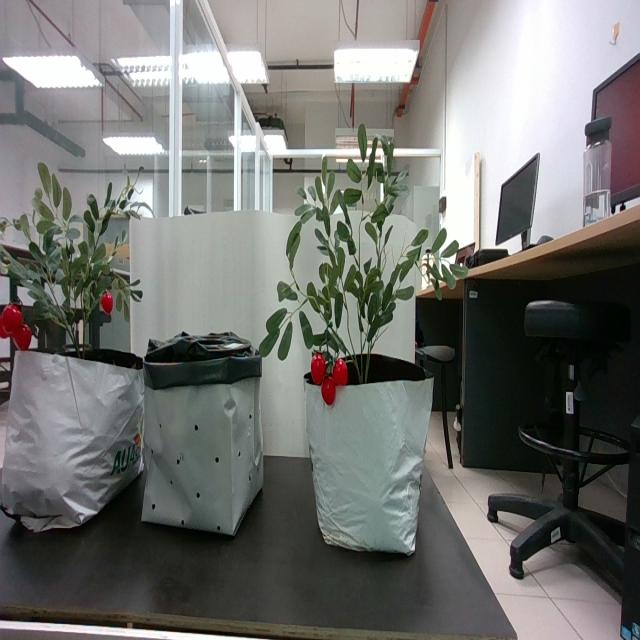Soilbag: (0, 351, 144, 536), (305, 355, 434, 560), (140, 339, 264, 540)
Tomato: (308, 353, 348, 408), (0, 305, 34, 351)
plant: (258, 139, 470, 406), (0, 163, 154, 358)
